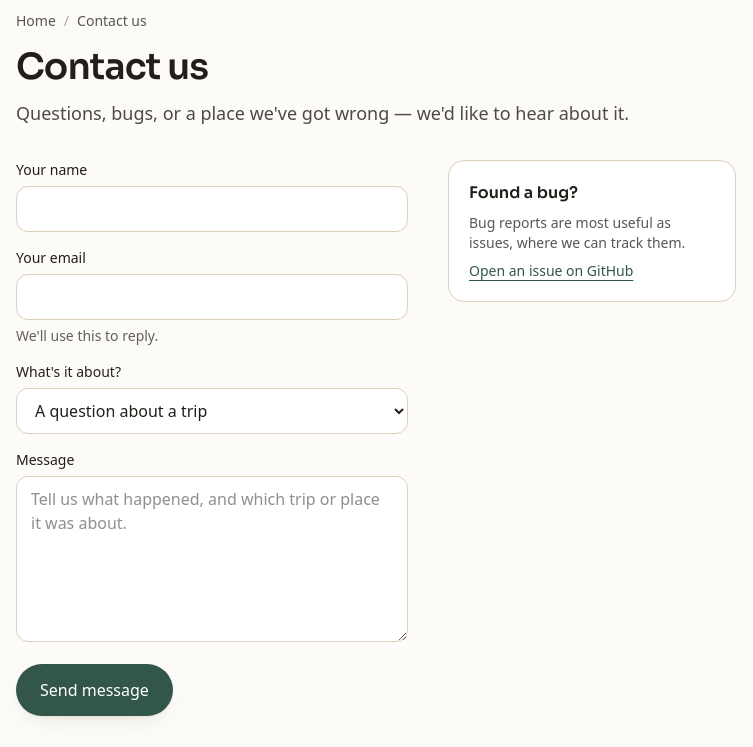
Test case: ContactPage › POSTs the form to /api/contact and shows success
The image size is (753, 747).
Step 1. Type "Alex" into the field labelled "Your name" → (212, 209), box [16,186,408,232]
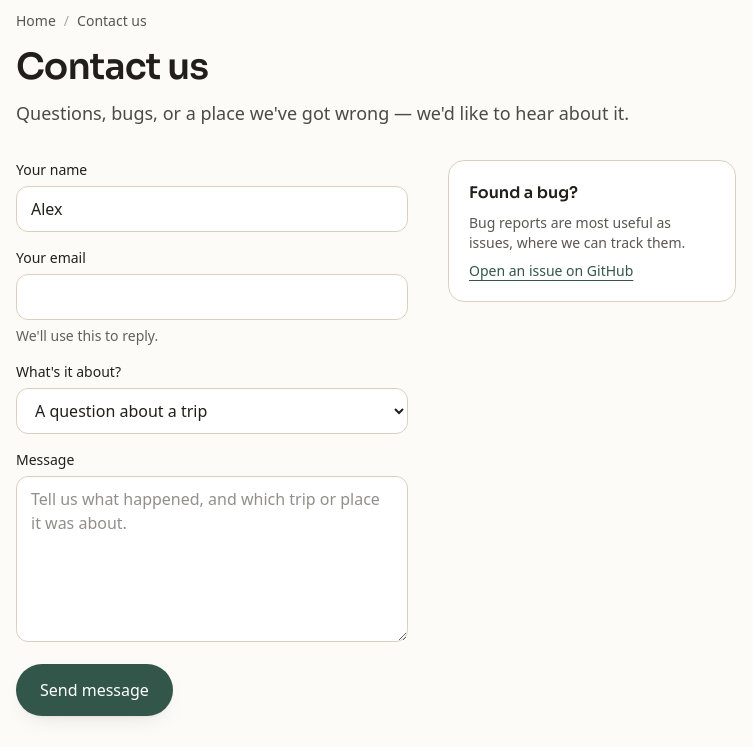
Step 2. Type "alex@example.com" into the field labelled "Your email" → (212, 297), box [16,274,408,320]
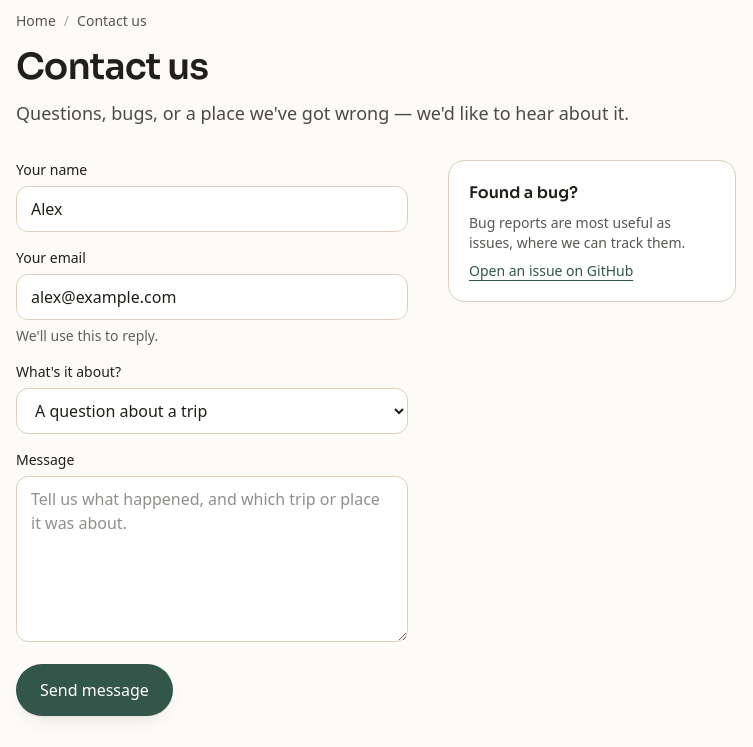
Step 3. Type "Something is broken on my Tokyo trip page." into the text box labelled "Message" → (212, 559), box [16,476,408,642]
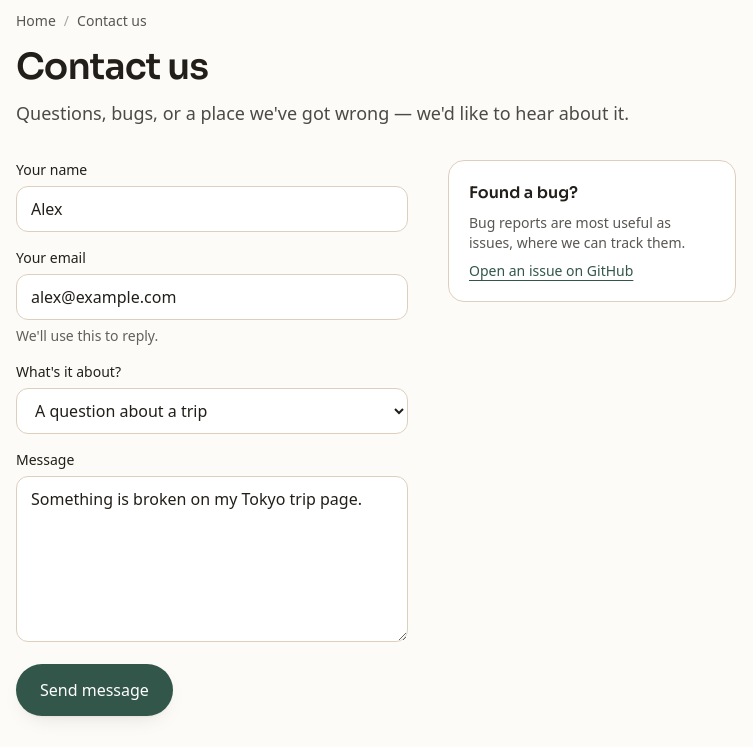
Step 4. Click the button "Send message" → (94, 690), box [16,664,173,716]
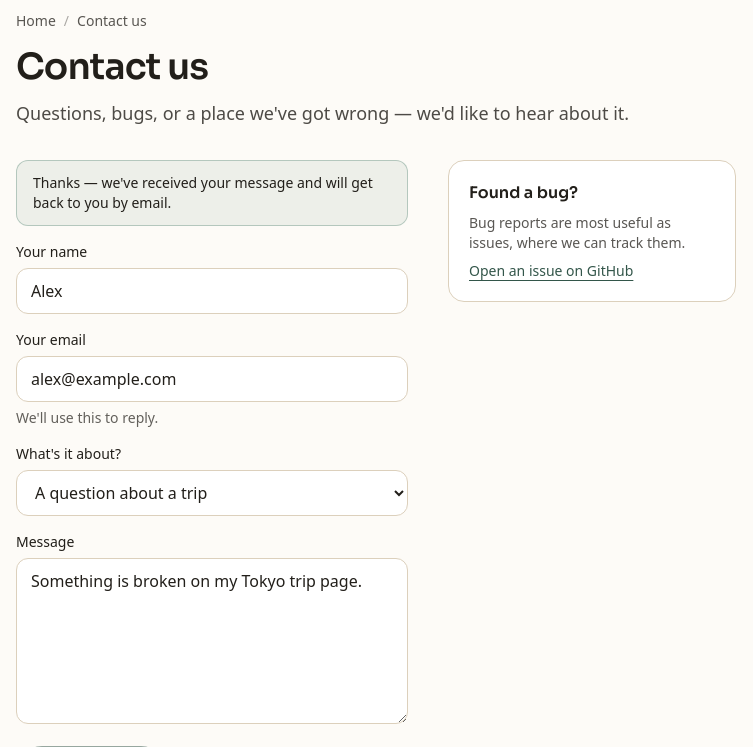
Now the text "Thanks — we've received your message and will get back to you by email." is shown, box [16,160,408,226]
